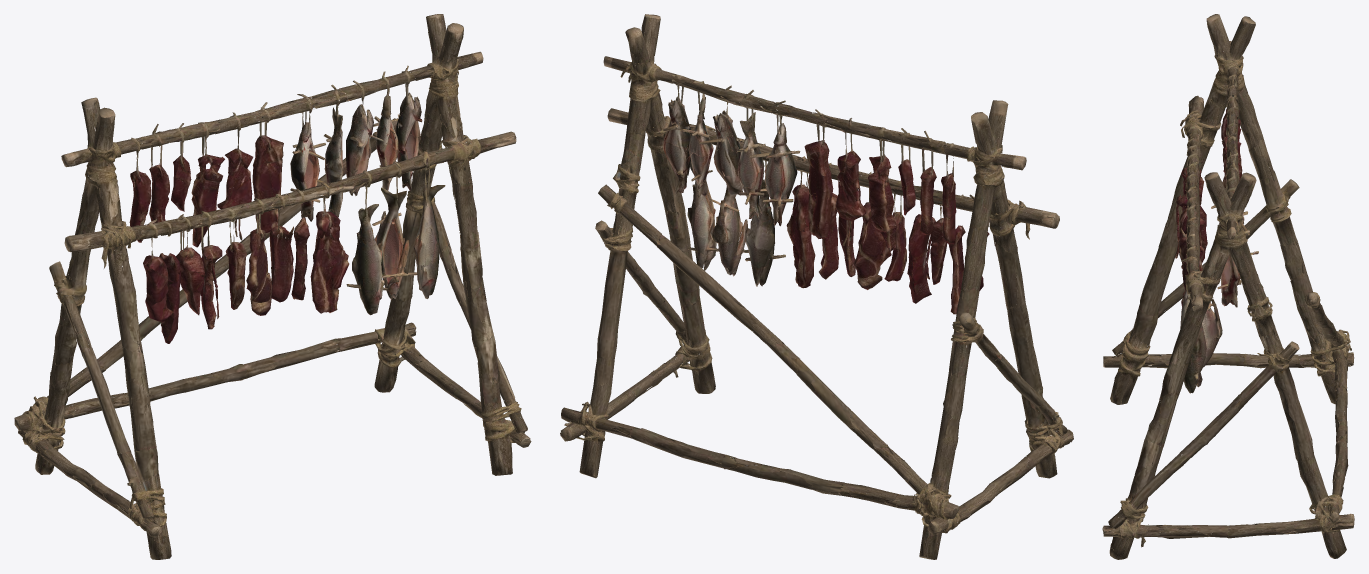
The model's file is drying-rack.glb.
The picture shows the model from 3 angles, left to right: view 1: azimuth 30°, elevation 25°; view 2: azimuth 150°, elevation 25°; view 3: azimuth 270°, elevation 25°; orthographic projection. The views are drawn at different scales.
Parts seen in each view (by area): view 1: Mesh_0; view 2: Mesh_0; view 3: Mesh_0.
Part boxes in pixels (x1,y1,x2,y2): Mesh_0: [14, 14, 531, 559]; Mesh_0: [560, 14, 1073, 559]; Mesh_0: [1102, 14, 1354, 559].
Bounding box in the file's own units: 2.15 × 1.9 × 1.13.
Materials: 1 (1 with a texture image).
